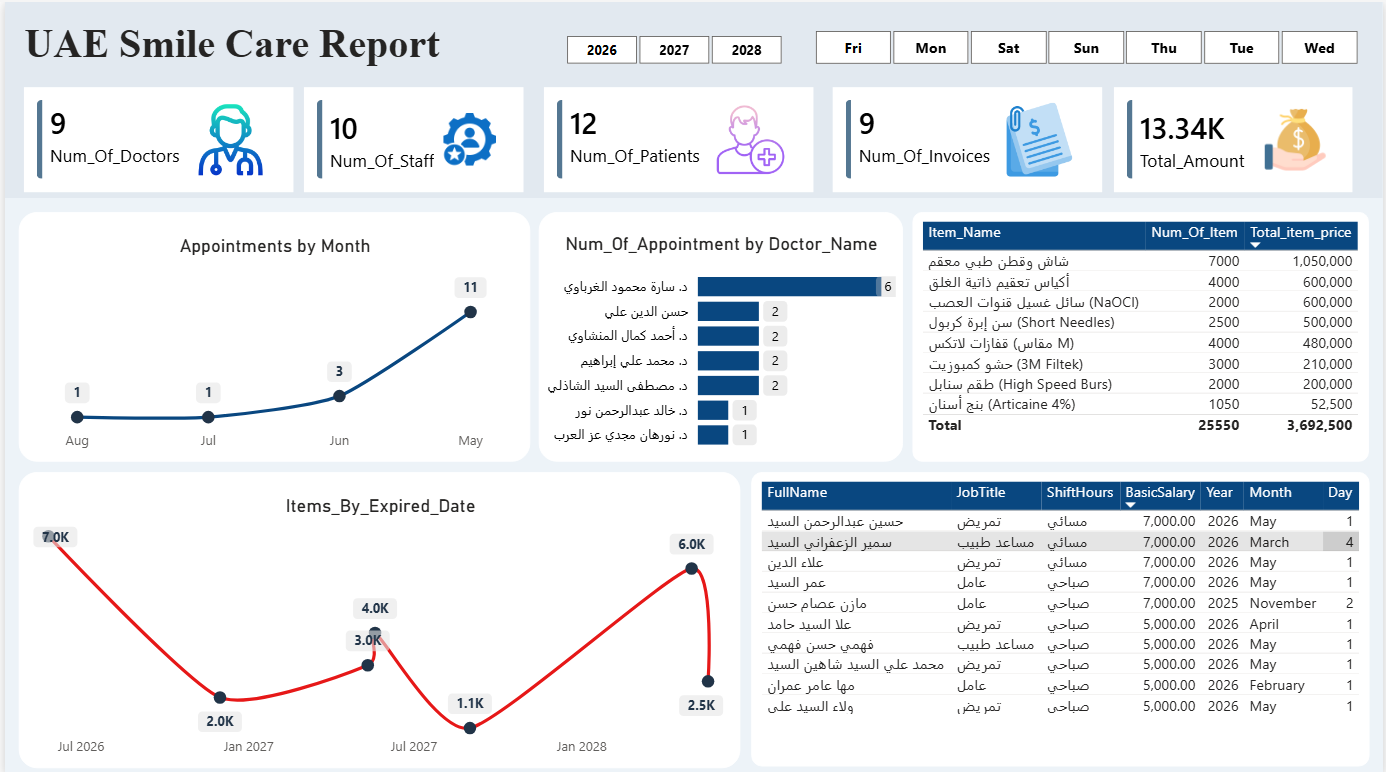

What the dashboard file says about the page in this screenshot:
{"tool":"powerbi","page":{"name":"Page 1","canvas":[1280,720],"ordinal":0},"visuals":[{"type":"shape","box":[0,0,1280,182.2],"z":0},{"type":"cardVisual","fields":{"Data":["Measuers.Num_Of_Patients"]},"box":[495.6,74.4,260,107.8],"z":1000},{"type":"cardVisual","fields":{"Data":["Measuers.Num_Of_Doctors"]},"box":[13.3,74.4,260,107.8],"z":2000},{"type":"cardVisual","fields":{"Data":["Measuers.Num_Of_Staff"]},"box":[273.3,74.4,214.4,107.8],"z":3000},{"type":"cardVisual","fields":{"Data":["Measuers.Total_Amount"]},"box":[1025.5,74.8,231.6,107.4],"z":4000},{"type":"lineChart","title":"Appointments by Month","fields":{"Y":["Measuers.Num_Of_Appointment"],"Category":["dCalendar.Month","dCalendar.Week Day"]},"box":[12.7,195,474.9,231.7],"z":5000},{"type":"clusteredBarChart","fields":{"Category":["Doctors List.Doctor_Name"],"Y":["Measuers.Num_Of_Appointment"]},"box":[496.4,195,338.1,231.7],"z":6000},{"type":"slicer","fields":{"Values":["dCalendar.Week Day"]},"box":[726.7,20,553.3,44.4],"z":7000},{"type":"slicer","fields":{"Values":["dCalendar.Year"]},"box":[495.8,24.1,249.7,35],"z":8000},{"type":"lineChart","title":"Items_By_Expired_Date","fields":{"Y":["Measuers.Num_Of_Item"],"Category":["Inventory List.ExpiryDate.Variation.Date Hierarchy.Year","Inventory List.ExpiryDate.Variation.Date Hierarchy.Month","Inventory List.ExpiryDate.Variation.Date Hierarchy.Day"]},"box":[13.3,436.7,670.8,275.1],"z":9000},{"type":"tableEx","fields":{"Values":["Inventory List.Item_Name","Measuers.Num_Of_Item","Measuers.Total_item_price"]},"box":[843.4,195,424.2,231.7],"z":10000},{"type":"cardVisual","fields":{"Data":["Measuers.Num_Of_Invoices"]},"box":[764.4,74.4,260,107.8],"z":11000},{"type":"tableEx","fields":{"Values":["Staff List.FullName","Staff List.JobTitle","Staff List.ShiftHours","Sum(Staff List.BasicSalary)","Staff List.Date.Variation.Date Hierarchy.Year","Staff List.Date.Variation.Date Hierarchy.Month","Staff List.Date.Variation.Date Hierarchy.Day"]},"box":[693.7,436.7,574.3,273.9],"z":12000},{"type":"textbox","box":[13.3,12.1,436.7,59.1],"z":13000}]}

Visuals, with their boxes in screenshot pixels (x1, y1, x2, y2), scaled from the page's 1280x720 canvas onto the 1386x772 screenshot:
shape: {"left": 0, "top": 0, "right": 1385, "bottom": 195}
cardVisual - Measuers.Num_Of_Patients: {"left": 537, "top": 80, "right": 818, "bottom": 195}
cardVisual - Measuers.Num_Of_Doctors: {"left": 14, "top": 80, "right": 296, "bottom": 195}
cardVisual - Measuers.Num_Of_Staff: {"left": 296, "top": 80, "right": 528, "bottom": 195}
cardVisual - Measuers.Total_Amount: {"left": 1110, "top": 80, "right": 1361, "bottom": 195}
"Appointments by Month" lineChart: {"left": 14, "top": 209, "right": 528, "bottom": 458}
clusteredBarChart - Doctors List.Doctor_Name x Measuers.Num_Of_Appointment: {"left": 538, "top": 209, "right": 904, "bottom": 458}
slicer - dCalendar.Week Day: {"left": 787, "top": 21, "right": 1385, "bottom": 69}
slicer - dCalendar.Year: {"left": 537, "top": 26, "right": 807, "bottom": 63}
"Items_By_Expired_Date" lineChart: {"left": 14, "top": 468, "right": 741, "bottom": 763}
tableEx - Inventory List.Item_Name x Measuers.Num_Of_Item: {"left": 913, "top": 209, "right": 1373, "bottom": 458}
cardVisual - Measuers.Num_Of_Invoices: {"left": 828, "top": 80, "right": 1109, "bottom": 195}
tableEx - Staff List.FullName x Staff List.JobTitle: {"left": 751, "top": 468, "right": 1373, "bottom": 762}
textbox: {"left": 14, "top": 13, "right": 487, "bottom": 76}
